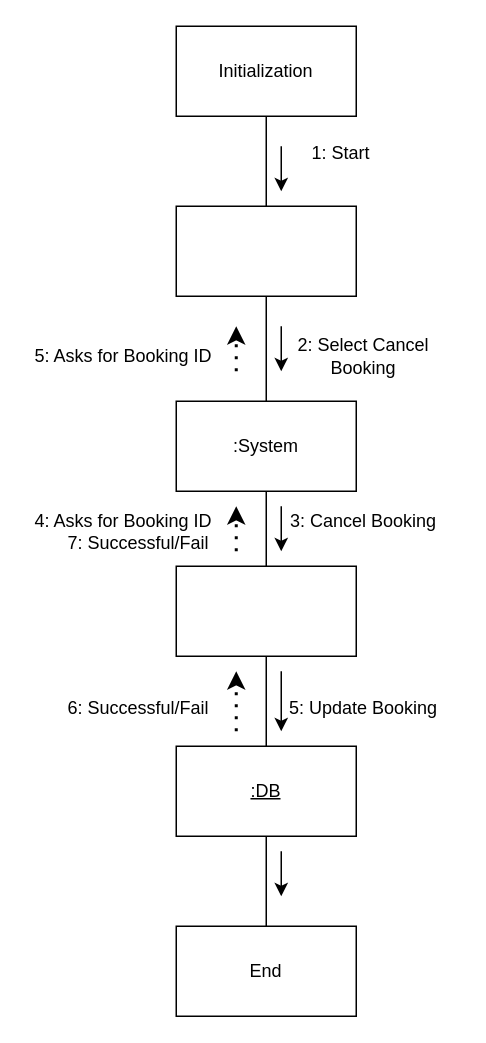
Some shapes in this 486 by 1043 pixel diagram are drawn without their labels. The centre of each missing label's shape, as x and y in pixels:
:Booking: the point at 265,610
:Faculty: the point at 265,250
